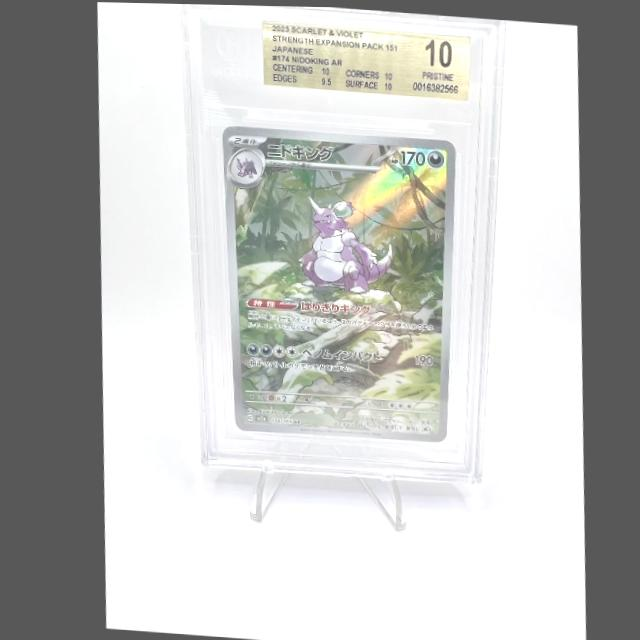bgs_label: (261, 17, 470, 98)
bgs_slab: (176, 3, 506, 484)
card: (220, 124, 455, 441)
